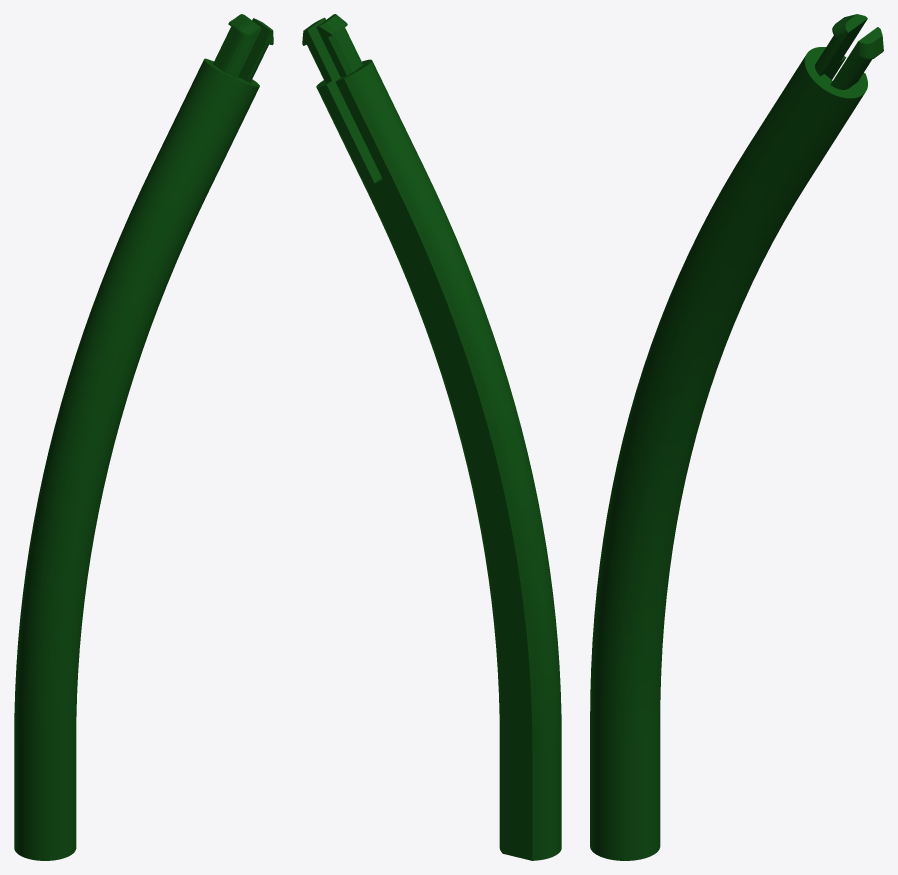
The model's file is stem_3A_30_R.glb.
The picture shows the model from 3 angles, left to right: view 1: azimuth 30°, elevation 25°; view 2: azimuth 150°, elevation 25°; view 3: azimuth 330°, elevation 25°; orthographic projection. The views are drawn at different scales.
Parts seen in each view (by area): view 1: stem_3A_30_R; view 2: stem_3A_30_R; view 3: stem_3A_30_R.
Part boxes in pixels (<box>): stem_3A_30_R: <box>14,14,273,860</box>; stem_3A_30_R: <box>302,14,561,860</box>; stem_3A_30_R: <box>590,14,883,860</box>.
Size of the model in its own units: 0.0335 by 0.0999 by 0.00666.
